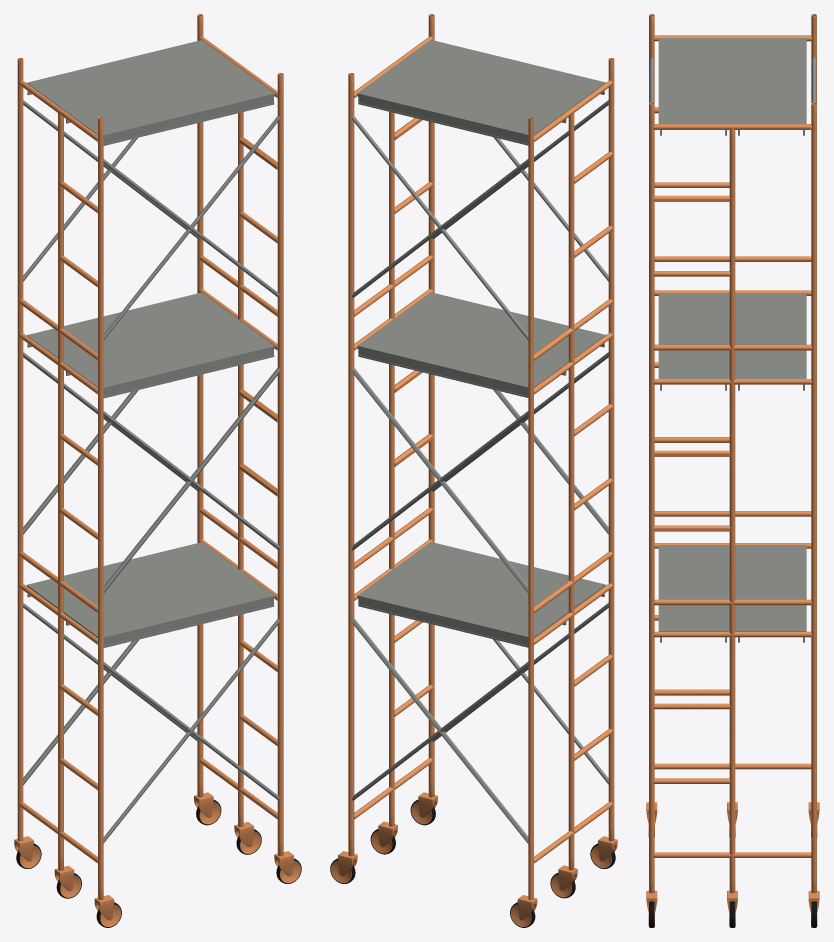
File: scaffolding.fbx
3 renders of one model, left to right at view 1: azimuth 30°, elevation 25°; view 2: azimuth 150°, elevation 25°; view 3: azimuth 270°, elevation 25°, orthographic.
Visible parts, largest first — view 1: top plate.001, top plate, bottome plate, v2F_pole, v3B_pole, v1F_pole, v5M_pole, v4B_pole, v6M_pole, higher1_crossbar, lower1_crossbar, higher1_crossbar.001 (+9 smaller); view 2: top plate.001, top plate, bottome plate, v4B_pole, v1F_pole, v5M_pole, v3B_pole, v6M_pole, v2F_pole, lower3_crossbar, higher3_crossbar, higher3_crossbar.001 (+9 smaller); view 3: top plate.001, bottome plate, top plate, v6M_pole, v4B_pole, v2F_pole, hRlong3_pole.001, hRlong2_pole, hRlong3_pole, hLlong1_pole, hRlong4_pole.001, hRlong1_pole (+14 smaller).
Boxes of the visible parts, x1,y1,x2,y2 form: top plate.001: (27,40,274,145); top plate: (26,292,274,398); bottome plate: (26,542,274,647); v2F_pole: (277,73,283,856); v3B_pole: (17,58,23,841); v1F_pole: (98,116,103,900); v5M_pole: (58,113,63,870); v4B_pole: (197,14,203,797); v6M_pole: (238,112,243,826); higher1_crossbar: (103,367,280,593); lower1_crossbar: (103,619,279,843); higher1_crossbar.001: (103,116,279,340); top plate.001: (357,40,605,145); top plate: (357,292,605,397); bottome plate: (357,542,605,647); v4B_pole: (348,73,354,856); v1F_pole: (608,58,614,841); v5M_pole: (568,112,574,870); v3B_pole: (528,116,533,900); v6M_pole: (389,112,394,826); v2F_pole: (428,14,434,797); lower3_crossbar: (351,618,528,843); higher3_crossbar: (351,367,528,593); higher3_crossbar.001: (352,116,528,340); top plate.001: (658,38,806,135); bottome plate: (658,545,806,642); top plate: (658,293,806,390); v6M_pole: (729,127,735,893); v4B_pole: (811,102,816,893); v2F_pole: (649,102,654,893); hRlong3_pole.001: (653,344,811,350); hRlong2_pole: (653,631,811,637); hRlong3_pole: (653,599,811,605); hLlong1_pole: (654,763,811,769); hRlong4_pole.001: (653,124,811,129); hRlong1_pole: (653,852,811,857).
Bounding box in the file's own units: 180 × 687 × 132.
